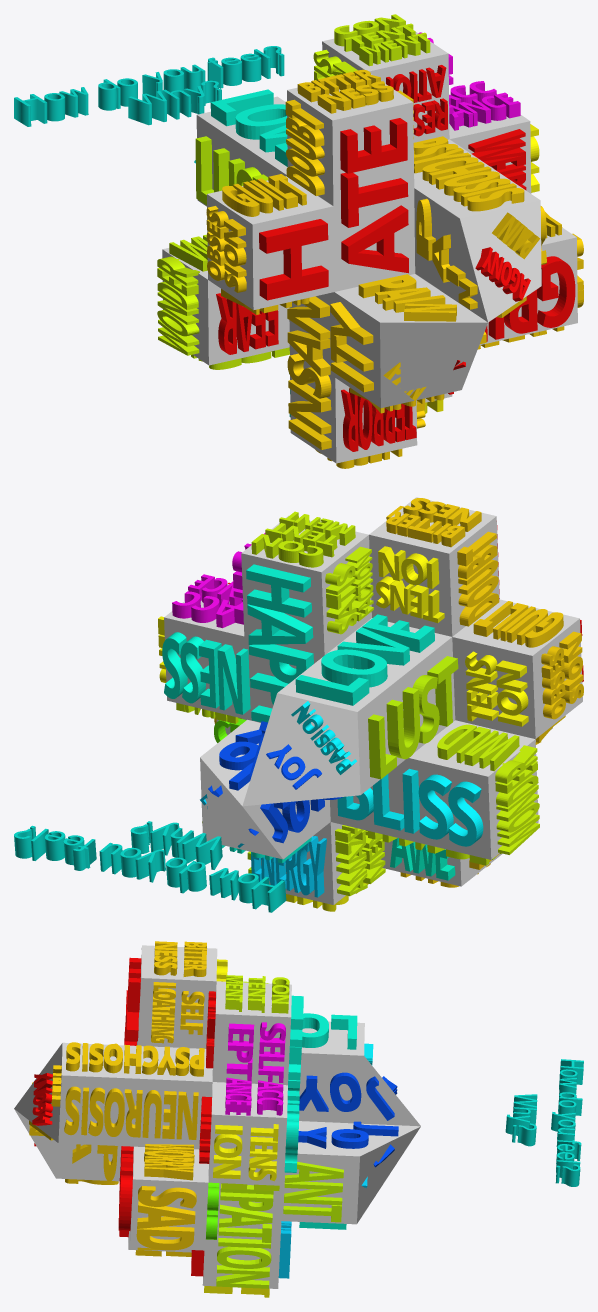
The model's file is asset.glb.
3 views of the same model, one above another, from view 1: azimuth 30°, elevation 25°; view 2: azimuth 150°, elevation 25°; view 3: azimuth 270°, elevation 25° (orthographic). The views are drawn at different scales.
Parts seen in each view (by area): view 1: 371_PERSONA_SHAPE, Text, 142_HATE_2_-_H, 139_HATE_1_-_A, 141_HATE_1_-_E, 120_GRIEF_-_G, 140_HATE_1_-_T, 177_LOVE_-_O, 148_INSANITY_1_-_N, 351_WEIRD_-_W, 176_LOVE_-_L, 150_INSANITY_1_-_A (+30 smaller); view 2: 371_PERSONA_SHAPE, Text, 134_HAPPINESS_2_-_H, 177_LOVE_-_O, 181_LUST_-_U, 130_HAPPINESS_1_-_N, 135_HAPPINESS_2_-_A, 076_BLISS_-_S, 075_BLISS_-_S, 136_HAPPINESS_2_-_P, 176_LOVE_-_L, 179_LOVE_-_E (+40 smaller); view 3: 371_PERSONA_SHAPE, Text, 305_SAD_-_D, 020_ANTICIPATION_1_-_N, 304_SAD_-_A, 030_ANTICIPATION_2_-_N, 303_SAD_-_S, 029_ANTICIPATION_2_-_O, 171_JOY_9_-_O, 026_ANTICIPATION_2_-_A, 177_LOVE_-_O, 196_NEUROSIS_-_N (+25 smaller).
Part boxes in pixels (box(x1,y1,x2,y2)): 371_PERSONA_SHAPE: box(162, 32, 577, 463); Text: box(14, 46, 284, 126); 142_HATE_2_-_H: box(259, 219, 328, 300); 139_HATE_1_-_A: box(341, 205, 408, 273); 141_HATE_1_-_E: box(340, 118, 407, 173); 120_GRIEF_-_G: box(537, 256, 575, 327); 140_HATE_1_-_T: box(340, 172, 408, 227); 177_LOVE_-_O: box(235, 104, 286, 139); 148_INSANITY_1_-_N: box(288, 379, 331, 434); 351_WEIRD_-_W: box(468, 129, 525, 161); 176_LOVE_-_L: box(210, 89, 273, 126); 150_INSANITY_1_-_A: box(287, 330, 330, 376); 371_PERSONA_SHAPE: box(164, 497, 582, 904); Text: box(14, 821, 286, 912); 134_HAPPINESS_2_-_H: box(246, 564, 311, 617); 177_LOVE_-_O: box(321, 649, 387, 687); 181_LUST_-_U: box(386, 687, 420, 759); 130_HAPPINESS_1_-_N: box(217, 644, 250, 714); 135_HAPPINESS_2_-_A: box(247, 604, 313, 644); 076_BLISS_-_S: box(448, 781, 483, 846); 075_BLISS_-_S: box(418, 774, 453, 839); 136_HAPPINESS_2_-_P: box(249, 644, 313, 683); 176_LOVE_-_L: box(295, 675, 369, 705); 179_LOVE_-_E: box(362, 614, 434, 652); 371_PERSONA_SHAPE: box(14, 945, 420, 1288); Text: box(505, 1059, 583, 1186); 305_SAD_-_D: box(136, 1226, 194, 1250); 020_ANTICIPATION_1_-_N: box(284, 1181, 342, 1205); 304_SAD_-_A: box(137, 1201, 195, 1228); 030_ANTICIPATION_2_-_N: box(216, 1265, 269, 1288); 303_SAD_-_S: box(138, 1186, 196, 1208); 029_ANTICIPATION_2_-_O: box(217, 1246, 271, 1268); 171_JOY_9_-_O: box(330, 1072, 361, 1111); 026_ANTICIPATION_2_-_A: box(219, 1204, 272, 1227); 177_LOVE_-_O: box(302, 1013, 328, 1047); 196_NEUROSIS_-_N: box(176, 1091, 198, 1139).
Size of the model in its own units: 3.6 by 3.63 by 6.29.
